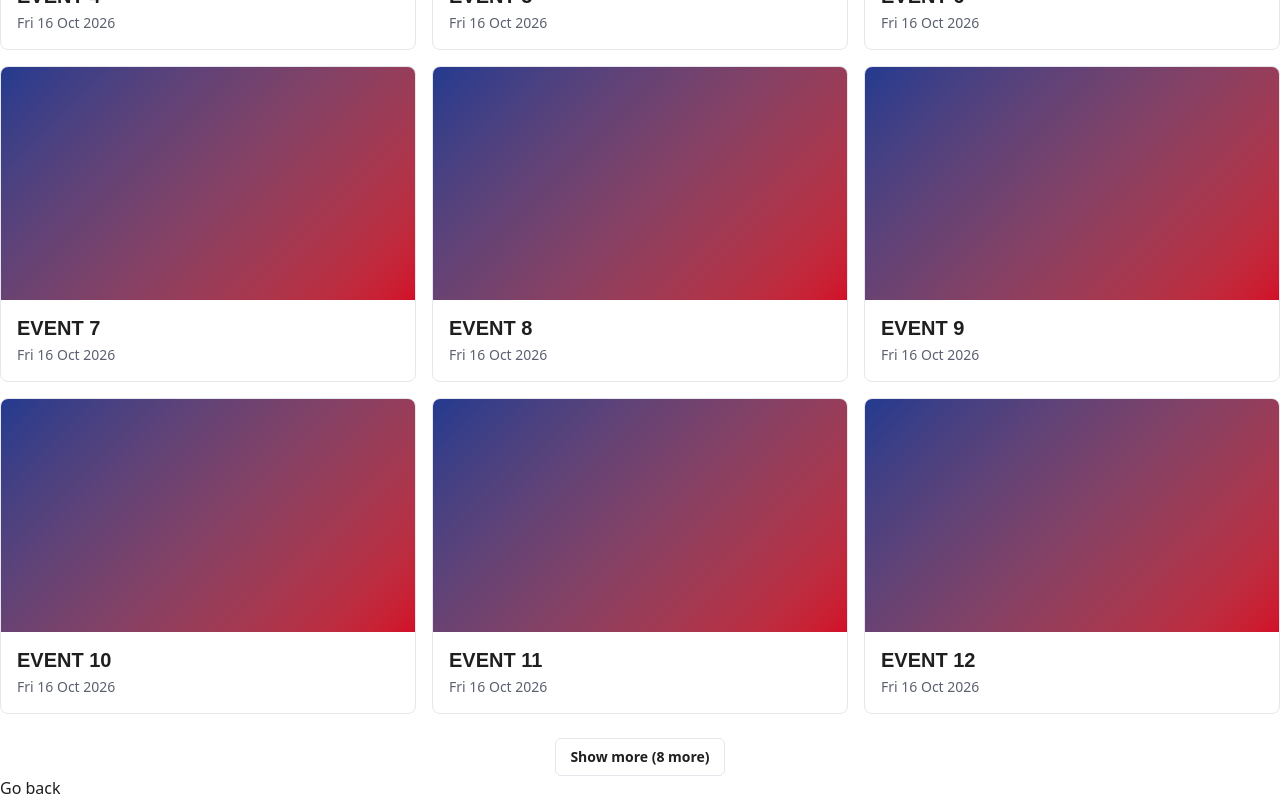
it: WhatsOnPage › goes back to the first page of cards when the tab changes
(page scrolled)
Click the button "Show more (8 more)" at (640, 756), box top-left (555, 738), bottom-right (725, 776)
(page scrolled)
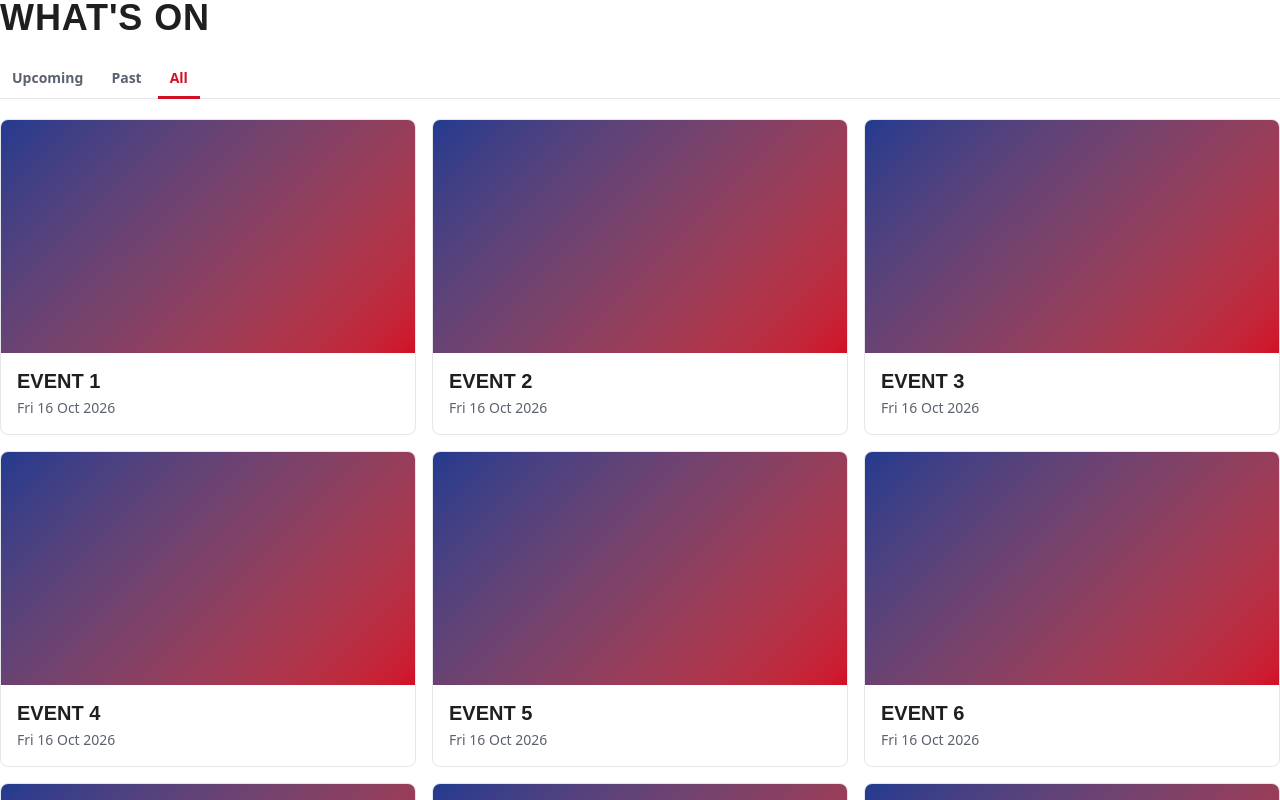
Now the number of links "Event 1 Fri 16 Oct 2026" is 20
Click the link "Upcoming" at (48, 78), box top-left (12, 68), bottom-right (83, 87)
(page scrolled)
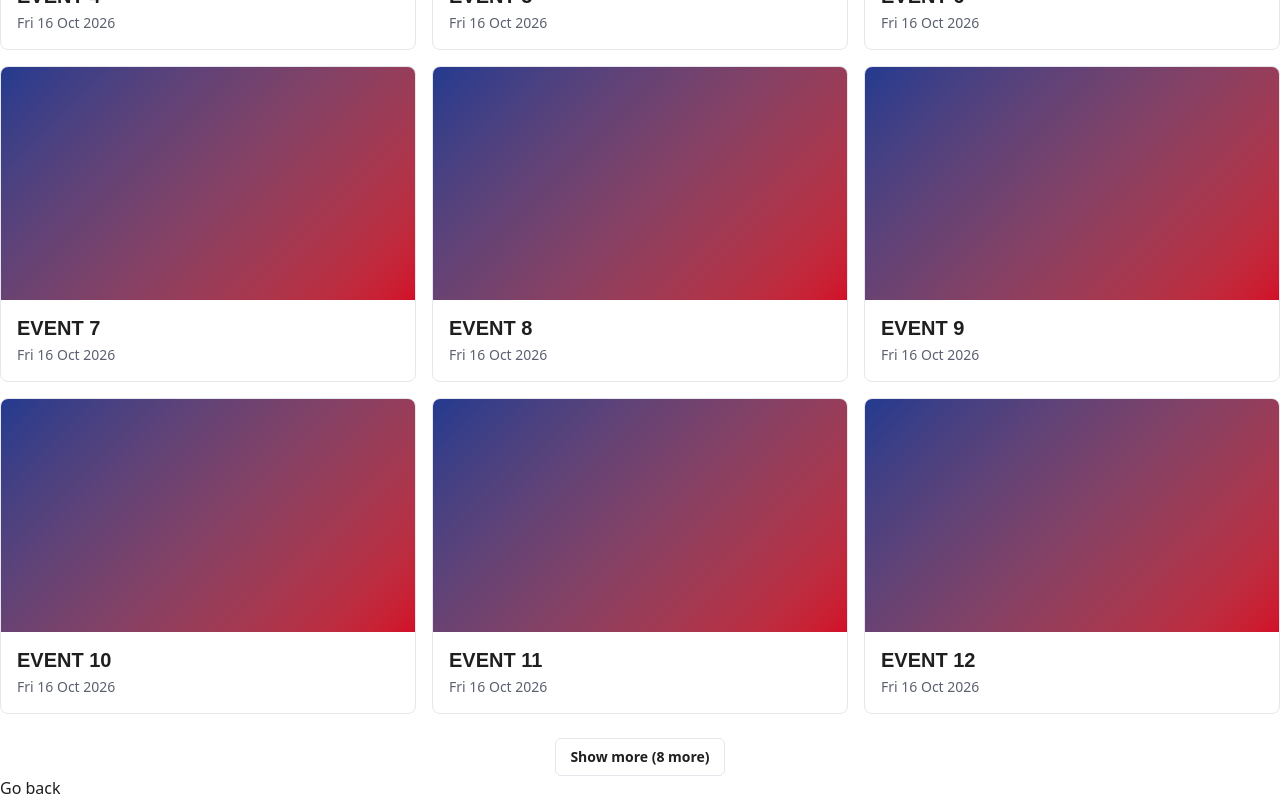
Now the button "Show more (8 more)" is shown, box top-left (555, 738), bottom-right (725, 776)
Now the number of links "Event " is 12
